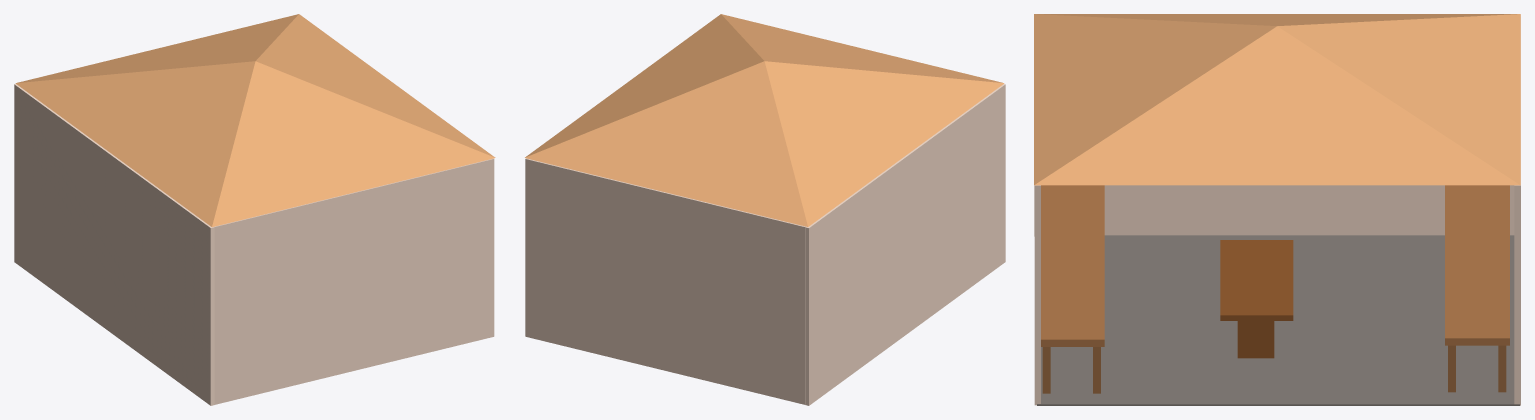
Rendered from paredes3.glb.
3 renders of one model, left to right at view 1: azimuth 30°, elevation 25°; view 2: azimuth 150°, elevation 25°; view 3: azimuth 270°, elevation 25°, orthographic. The views are drawn at different scales.
Visible parts, largest first — view 1: Cubo.001, Cube.003, Cube.004; view 2: Cubo.001, Cube.001, Cube.004; view 3: Cubo.001, Cubo, Cube.004, Cubo.008, Cubo.003, Cubo.002, Cube.001, Cube.003.
Boxes of the visible parts, x1=… form: Cubo.001: x1=15, y1=14, x2=495, y2=226; Cube.003: x1=214, y1=158, x2=494, y2=404; Cube.004: x1=14, y1=84, x2=214, y2=405; Cubo.001: x1=525, y1=14, x2=1004, y2=226; Cube.001: x1=525, y1=158, x2=805, y2=404; Cube.004: x1=805, y1=84, x2=1005, y2=405; Cubo.001: x1=1034, y1=14, x2=1520, y2=185; Cubo: x1=1037, y1=235, x2=1519, y2=405; Cube.004: x1=1034, y1=14, x2=1520, y2=236; Cubo.008: x1=1445, y1=185, x2=1509, y2=392; Cubo.003: x1=1041, y1=185, x2=1104, y2=393; Cubo.002: x1=1220, y1=240, x2=1293, y2=358; Cube.001: x1=1514, y1=17, x2=1520, y2=405; Cube.003: x1=1034, y1=185, x2=1040, y2=405.
Size of the model in its own units: 25.09 by 20.08 by 30.02.
